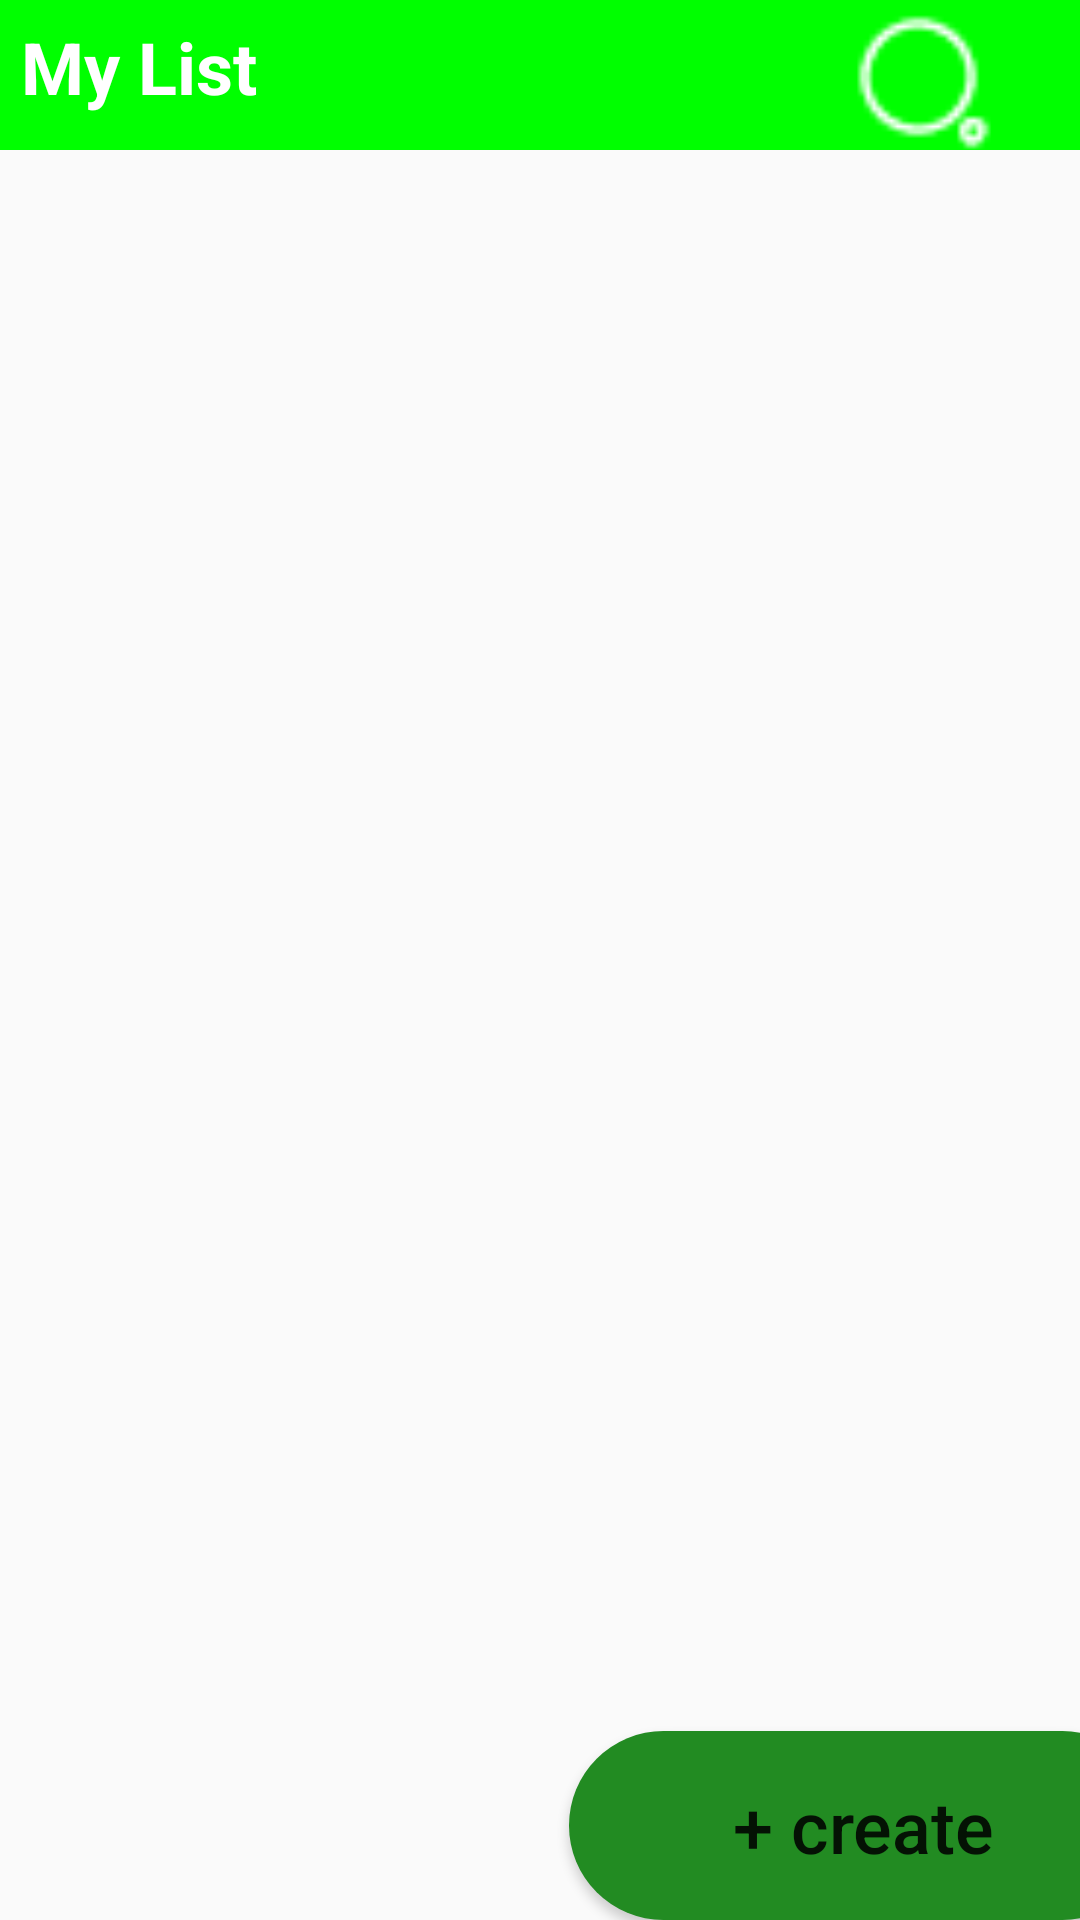

Named icons in this screenshot (1080 × 1920) and their centers, (x=x, y=y):
search: (x=924, y=82)
